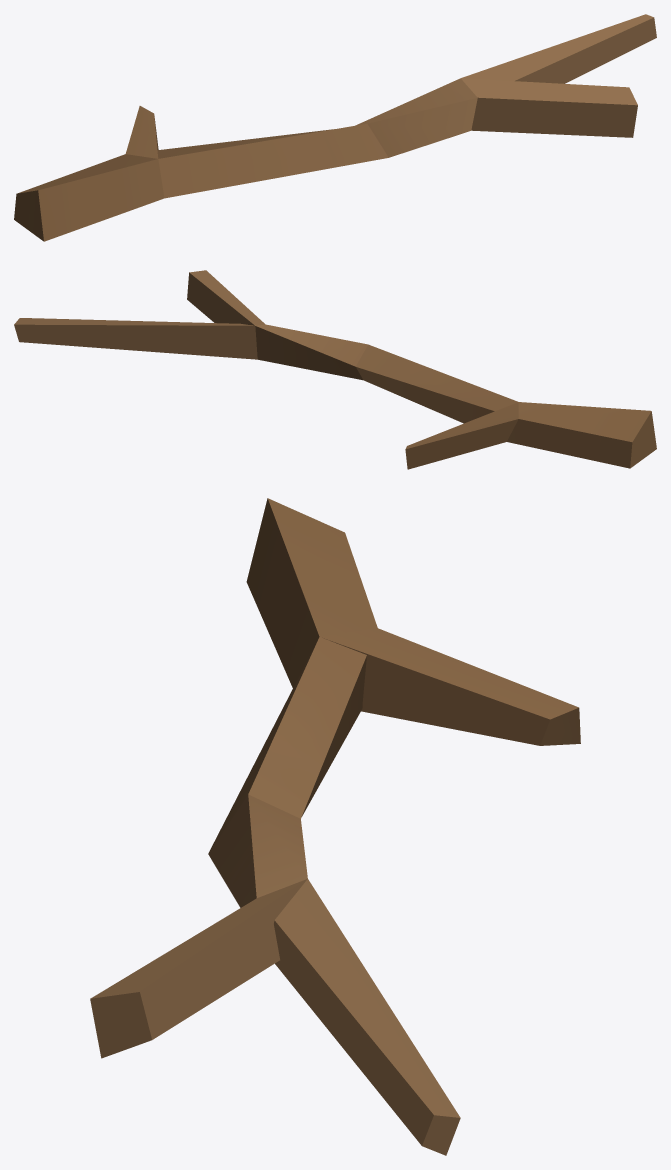
File: branch_04.fbx
3 renders of one model, top to bottom at view 1: azimuth 30°, elevation 25°; view 2: azimuth 150°, elevation 25°; view 3: azimuth 270°, elevation 25°, orthographic. The views are drawn at different scales.
Visible parts, largest first — view 1: branch_04; view 2: branch_04; view 3: branch_04.
Boxes of the visible parts, x1,y1,x2,y2 form: branch_04: [14, 14, 656, 241]; branch_04: [14, 270, 656, 469]; branch_04: [90, 498, 580, 1155].
Size of the model in its own units: 1.25 by 0.085 by 0.45.
Materials: 1 (1 with a texture image).
